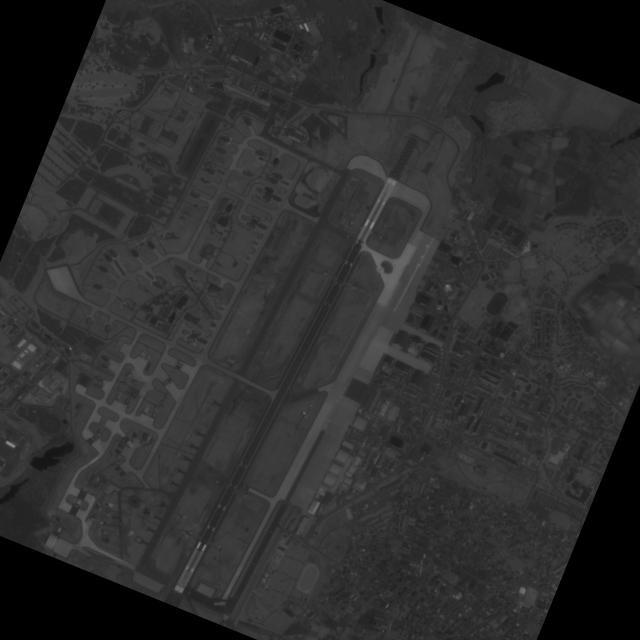plane: (374, 349, 383, 358)
